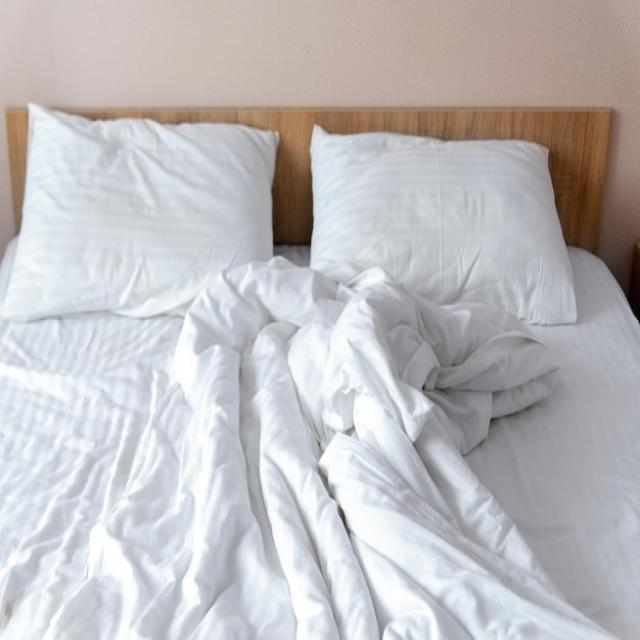bed: (0, 101, 623, 633)
